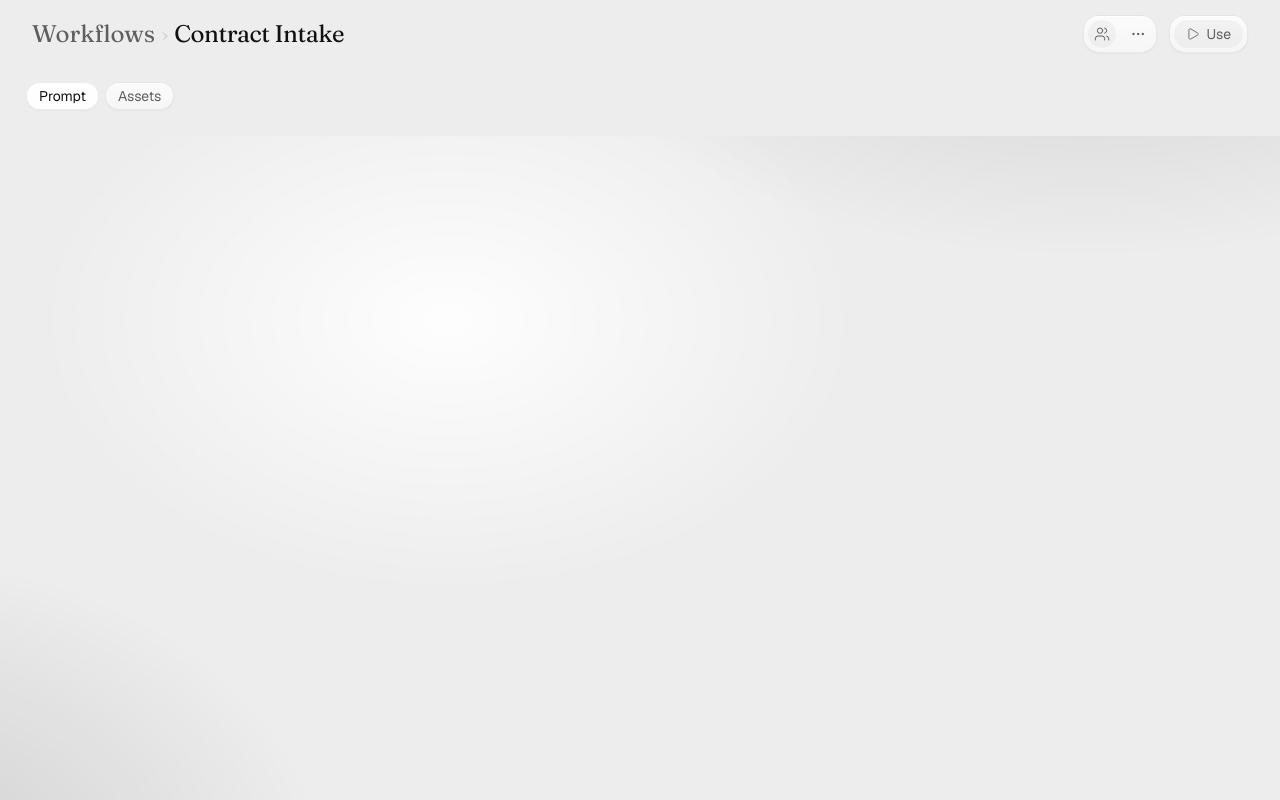
Scenario: WorkflowDetailPage access mutations › still reports a role change the grant itself refused
The width and height of the screenshot is (1280, 800).
Click the button named "Open workflow access".
click(1102, 34)  # box [1088,20,1116,48]
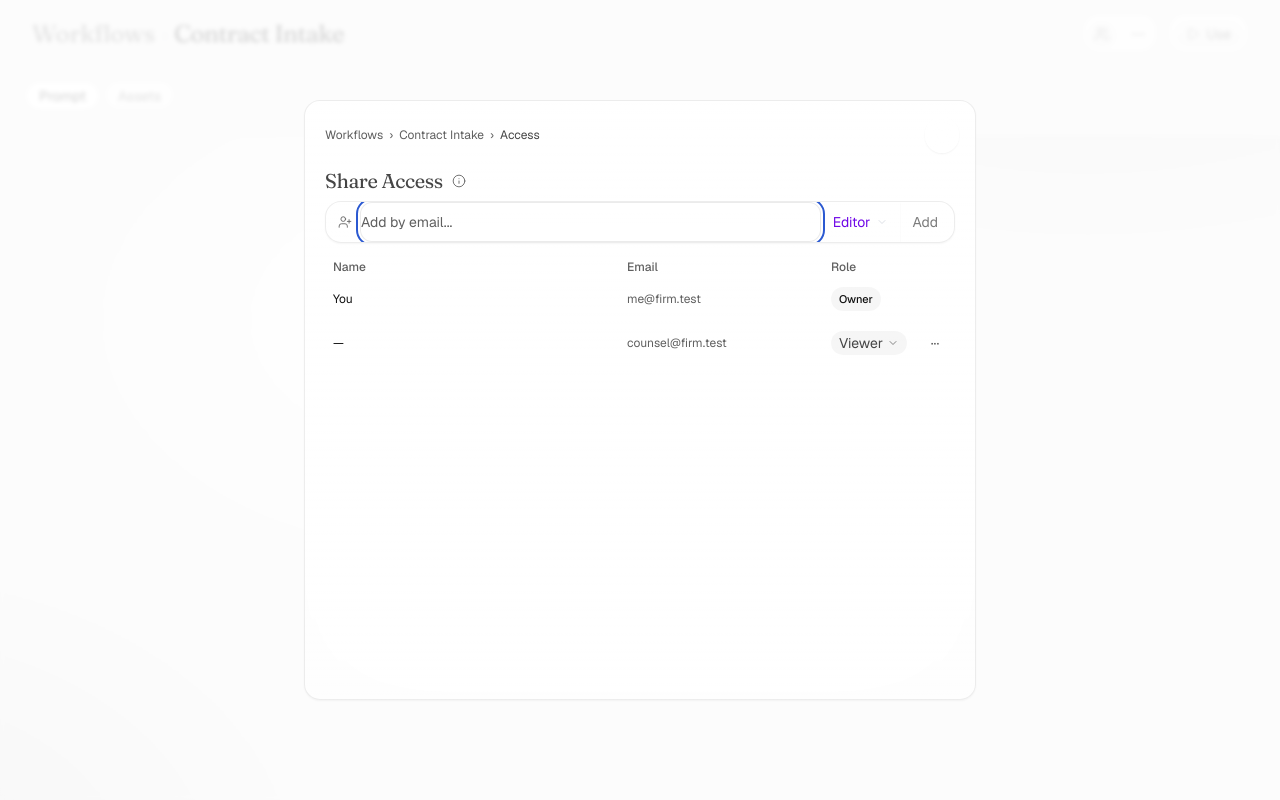
Click the button with aria-label "Role for counsel@firm.test".
click(869, 343)  # box [831,331,907,355]
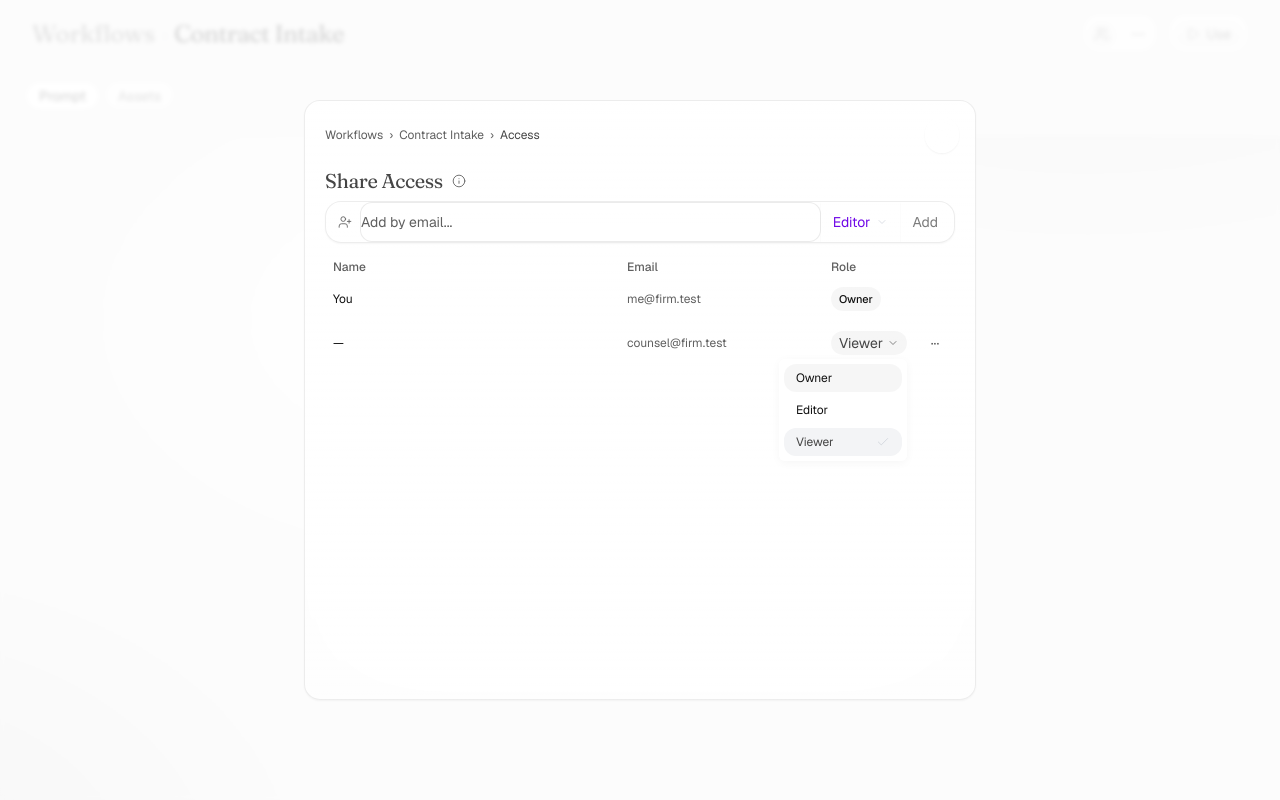
Click the menu item "Owner".
click(843, 378)  # box [784,364,902,392]
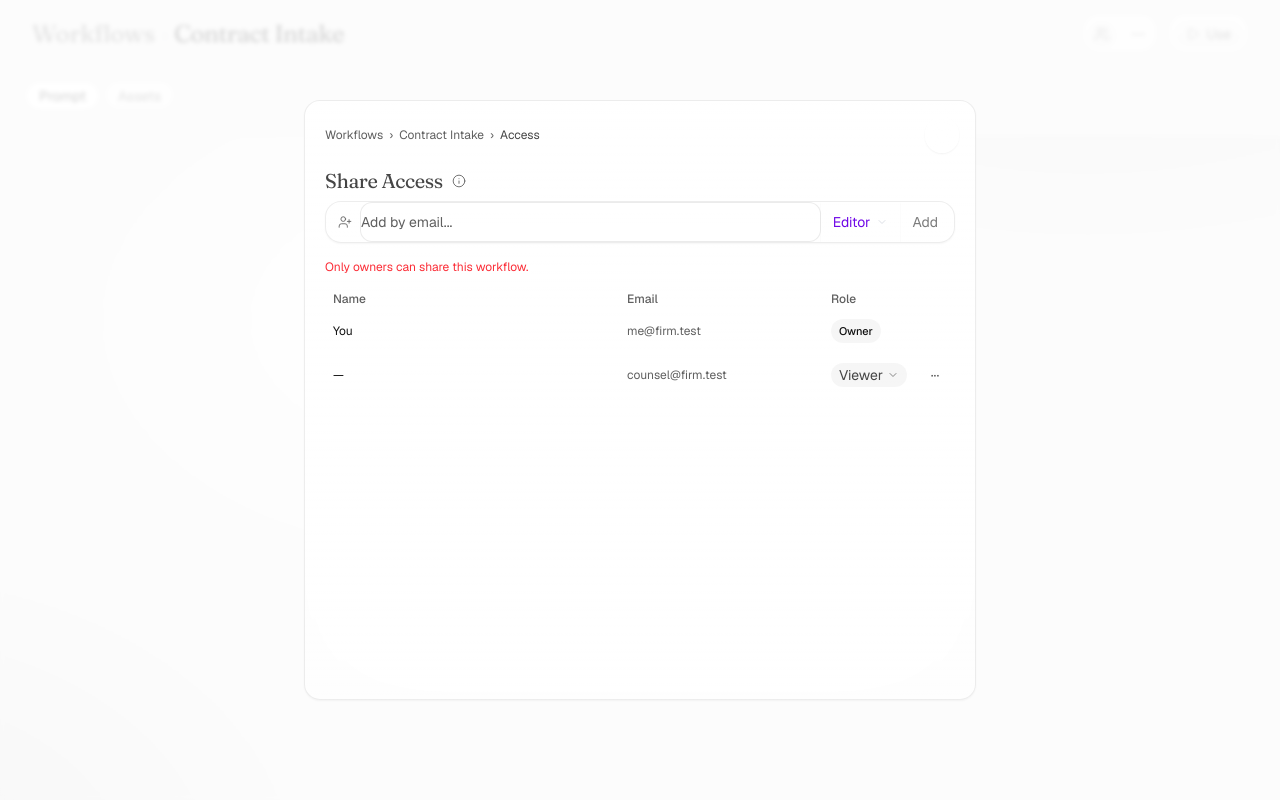
Expected: the text "Only owners can share this workflow." is shown, [325,259,528,275]
